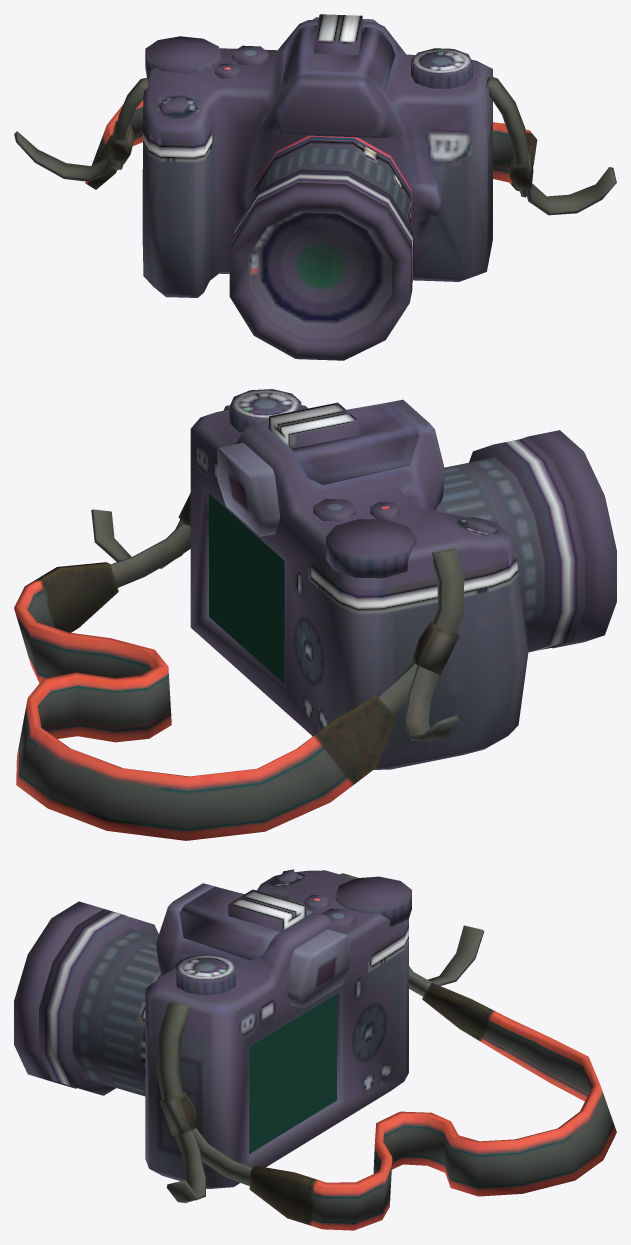
File: camera.glb
The picture shows the model from 3 angles, top to bottom: view 1: azimuth 30°, elevation 25°; view 2: azimuth 150°, elevation 25°; view 3: azimuth 270°, elevation 25°; orthographic projection. The views are drawn at different scales.
Visible parts, largest first — view 1: Body_low__mReBody; view 2: Body_low__mReBody; view 3: Body_low__mReBody.
Boxes of the visible parts, left/top/right/bottom form: Body_low__mReBody: left=14, top=14, right=616, bottom=360; Body_low__mReBody: left=14, top=389, right=616, bottom=840; Body_low__mReBody: left=14, top=869, right=616, bottom=1230.
Bounding box in the file's own units: 0.3 × 0.1437 × 0.3438.
Materials: 2 (1 with a texture image).
